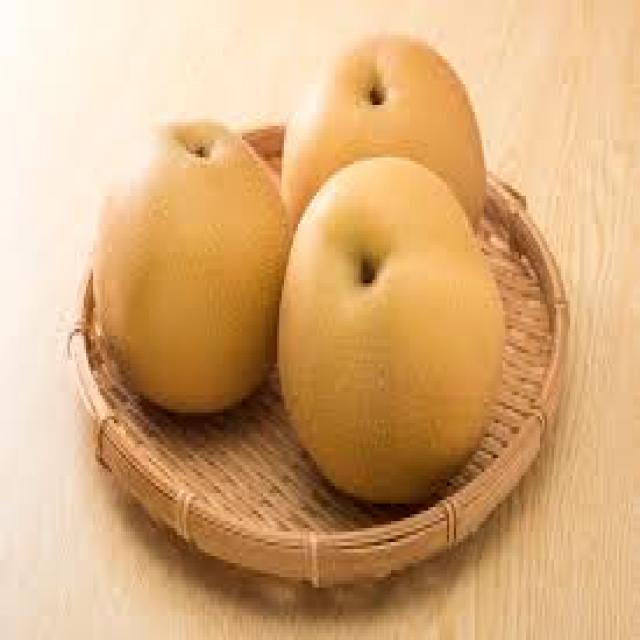Pear: (279, 157, 503, 504)
